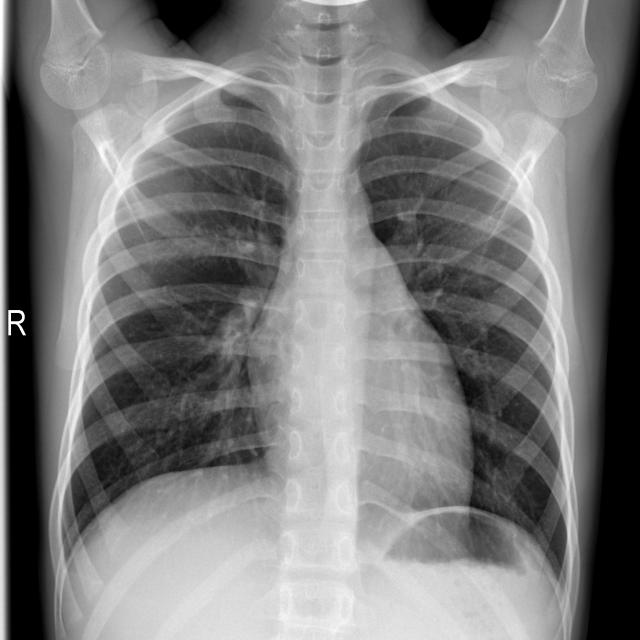no-pneumonia: (61, 89, 298, 556), (361, 96, 569, 576)
